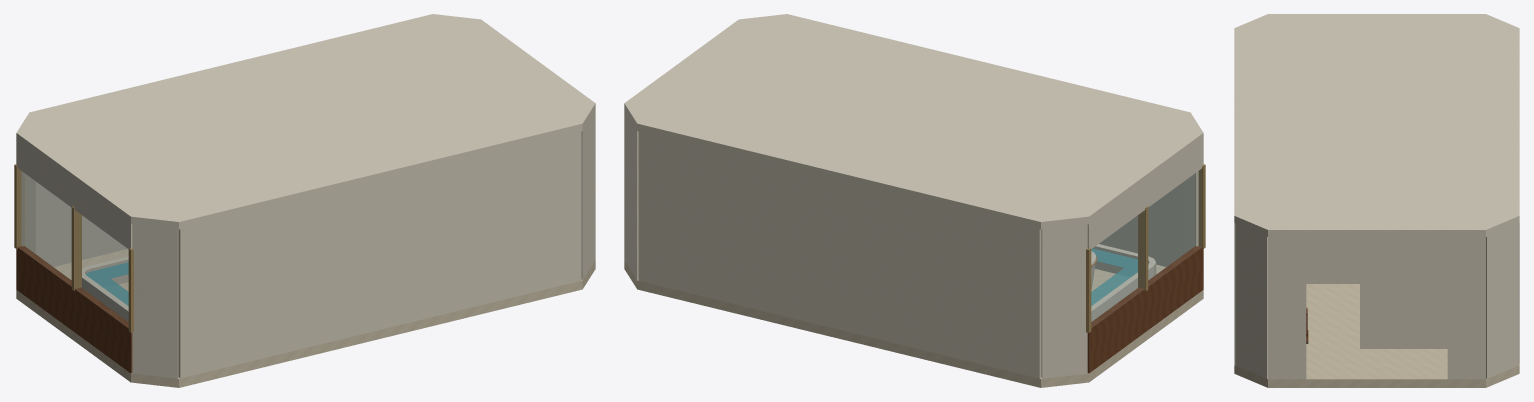
File: D04_STARBOARD_FORWARD_HOME_901_r001.glb
3 views of the same model, side by side, from view 1: azimuth 30°, elevation 25°; view 2: azimuth 150°, elevation 25°; view 3: azimuth 270°, elevation 25° (orthographic). The views are drawn at different scales.
Visible parts, largest first — view 1: D04SH901_Roof, D04SH901_Shell_3, D04SH901_GardenGlass, D04SH901_Shell_4, D04SH901_Floor, D04SH901_GardenDado, D04SH901_Shell_7, D04SH901_GardenHead, D04SH901_Shell_2, D04SH901_AquaticBasinRim, D04SH901_Shell_6, D04SH901_WindowMullion_1 (+3 smaller); view 2: D04SH901_Roof, D04SH901_Shell_7, D04SH901_GardenGlass, D04SH901_Shell_6, D04SH901_Floor, D04SH901_GardenDado, D04SH901_Shell_3, D04SH901_GardenHead, D04SH901_Shell_0, D04SH901_AquaticBasinRim, D04SH901_Water_0, D04SH901_Shell_4 (+3 smaller); view 3: D04SH901_Roof, D04SH901_Floor, D04SH901_EntryHeader, D04SH901_BathDogleg, D04SH901_EntryWall_0, D04SH901_EntryWall_1, D04SH901_Shell_0, D04SH901_Shell_2, D04SH901_Shell_3, D04SH901_Shell_7.
Boxes of the visible parts, x1=… form: D04SH901_Roof: x1=16, y1=14, x2=595, y2=229; D04SH901_Shell_3: x1=178, y1=131, x2=581, y2=378; D04SH901_GardenGlass: x1=19, y1=173, x2=128, y2=326; D04SH901_Shell_4: x1=132, y1=224, x2=178, y2=378; D04SH901_Floor: x1=16, y1=249, x2=595, y2=387; D04SH901_GardenDado: x1=16, y1=246, x2=132, y2=373; D04SH901_Shell_7: x1=35, y1=181, x2=127, y2=266; D04SH901_GardenHead: x1=16, y1=140, x2=132, y2=248; D04SH901_Shell_2: x1=581, y1=111, x2=595, y2=279; D04SH901_AquaticBasinRim: x1=82, y1=256, x2=128, y2=321; D04SH901_Shell_6: x1=21, y1=171, x2=35, y2=253; D04SH901_WindowMullion_1: x1=71, y1=206, x2=81, y2=290; D04SH901_Roof: x1=624, y1=14, x2=1203, y2=229; D04SH901_Shell_7: x1=638, y1=131, x2=1041, y2=378; D04SH901_GardenGlass: x1=1091, y1=173, x2=1200, y2=325; D04SH901_Shell_6: x1=1041, y1=224, x2=1087, y2=378; D04SH901_Floor: x1=624, y1=260, x2=1203, y2=387; D04SH901_GardenDado: x1=1087, y1=246, x2=1203, y2=373; D04SH901_Shell_3: x1=1099, y1=181, x2=1184, y2=266; D04SH901_GardenHead: x1=1087, y1=140, x2=1203, y2=248; D04SH901_Shell_0: x1=624, y1=111, x2=638, y2=279; D04SH901_AquaticBasinRim: x1=1091, y1=244, x2=1156, y2=321; D04SH901_Water_0: x1=1091, y1=248, x2=1137, y2=305; D04SH901_Shell_4: x1=1184, y1=171, x2=1198, y2=253; D04SH901_Roof: x1=1234, y1=14, x2=1519, y2=237; D04SH901_Floor: x1=1234, y1=284, x2=1519, y2=387; D04SH901_EntryHeader: x1=1306, y1=237, x2=1447, y2=283; D04SH901_BathDogleg: x1=1360, y1=284, x2=1447, y2=348; D04SH901_EntryWall_0: x1=1447, y1=237, x2=1485, y2=379; D04SH901_EntryWall_1: x1=1268, y1=237, x2=1306, y2=379; D04SH901_Shell_0: x1=1486, y1=223, x2=1518, y2=378; D04SH901_Shell_2: x1=1235, y1=223, x2=1267, y2=378; D04SH901_Shell_3: x1=1234, y1=223, x2=1235, y2=364; D04SH901_Shell_7: x1=1518, y1=223, x2=1519, y2=364.
Bounding box in the file's own units: 12.93 × 4.4 × 7.2.
Materials: 40 (21 with a texture image).
